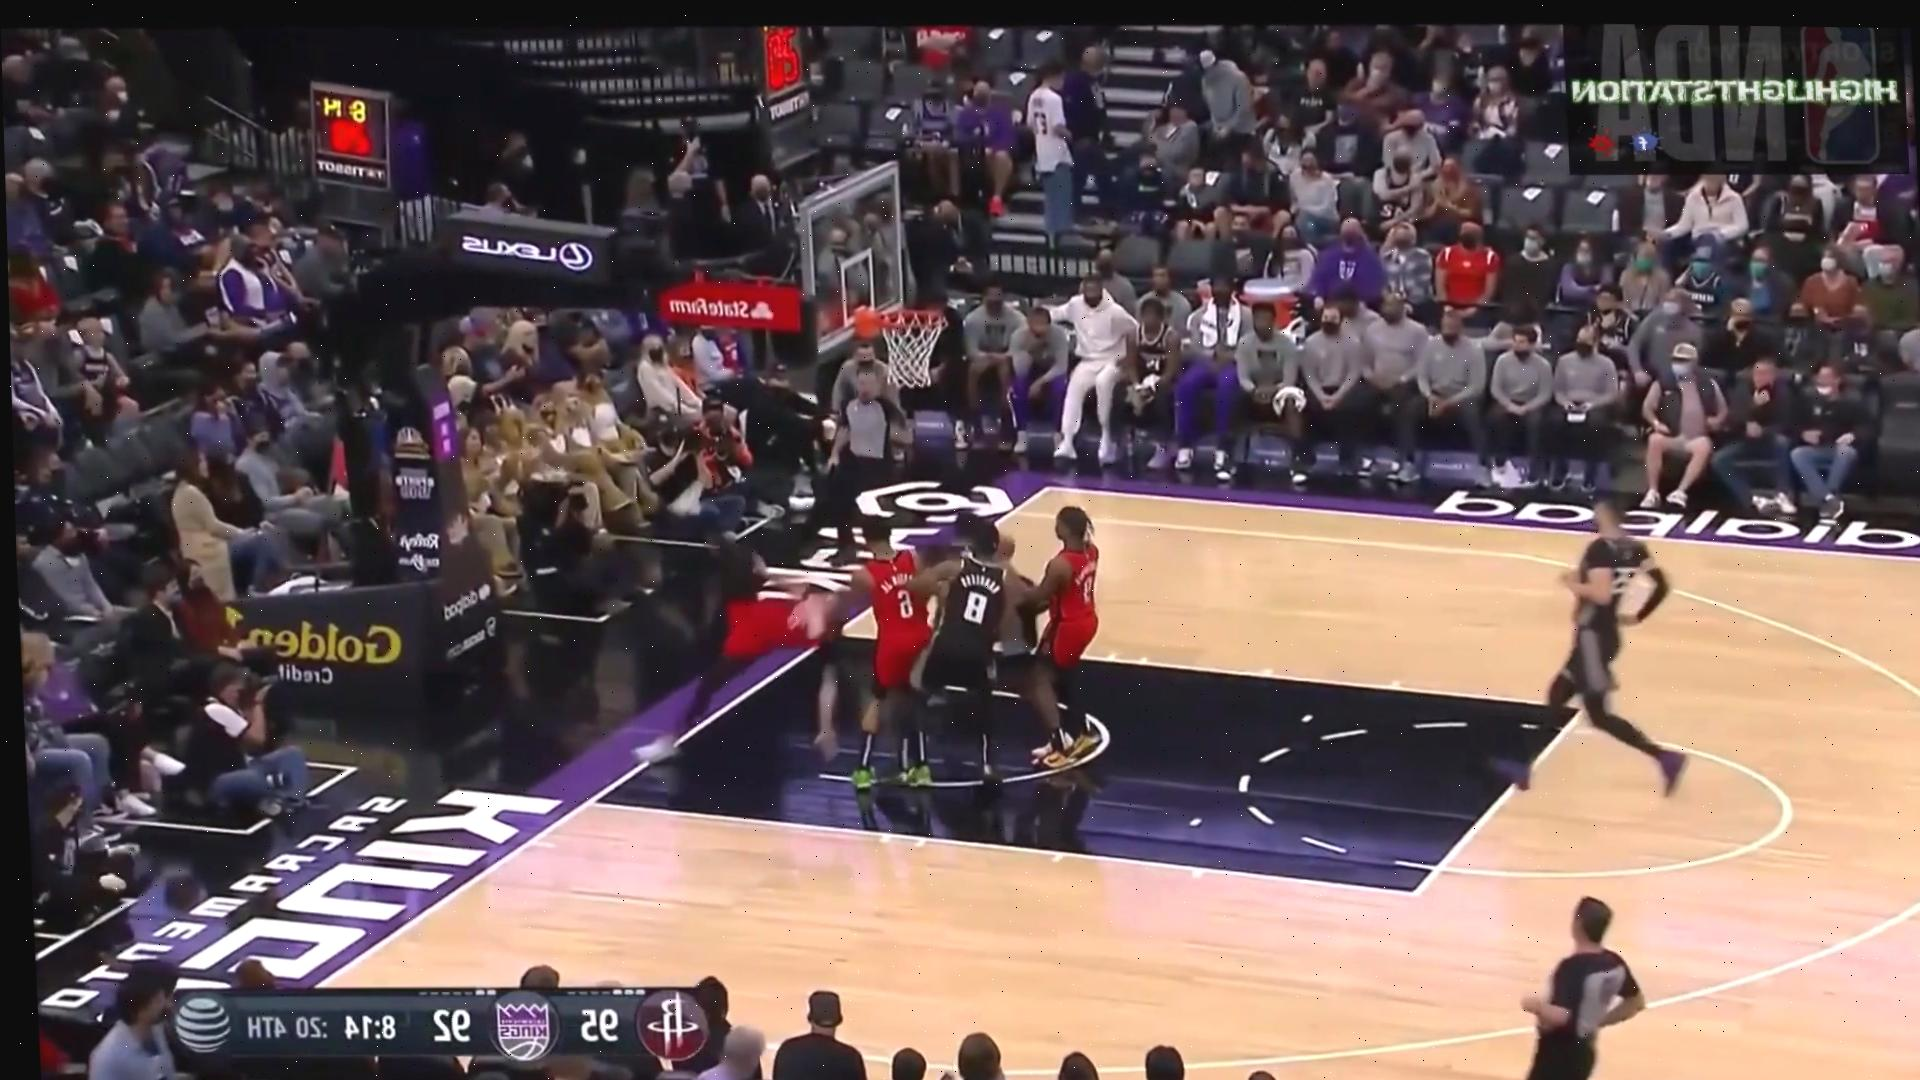no_foul: (913, 491, 1131, 785)
